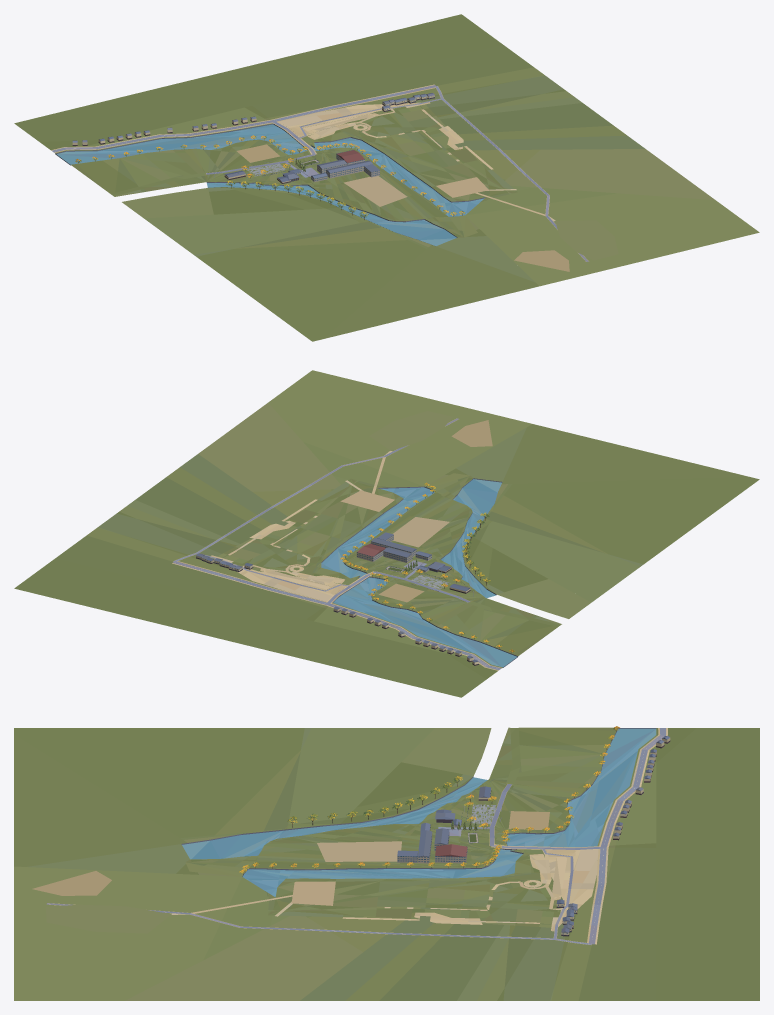
The model's file is ART_WestMoat.glb.
The picture shows the model from 3 angles, top to bottom: view 1: azimuth 30°, elevation 25°; view 2: azimuth 150°, elevation 25°; view 3: azimuth 270°, elevation 25°; orthographic projection. The views are drawn at different scales.
Parts seen in each view (by area): view 1: ART_WestMoat; view 2: ART_WestMoat; view 3: ART_WestMoat.
Boxes of the visible parts, x1,y1,x2,y2 form: ART_WestMoat: (14, 14, 759, 341); ART_WestMoat: (14, 370, 759, 697); ART_WestMoat: (14, 726, 759, 1000).
Size of the model in its own units: 840 by 16.49 by 970.
